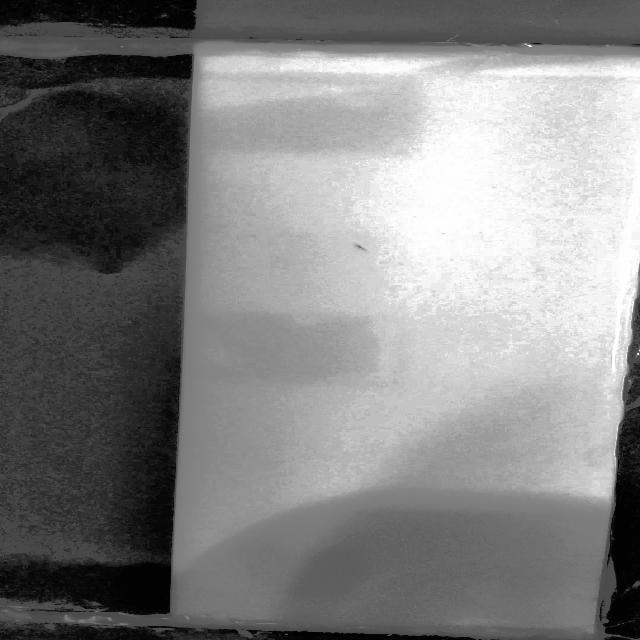shrimp: (351, 242, 372, 253)
